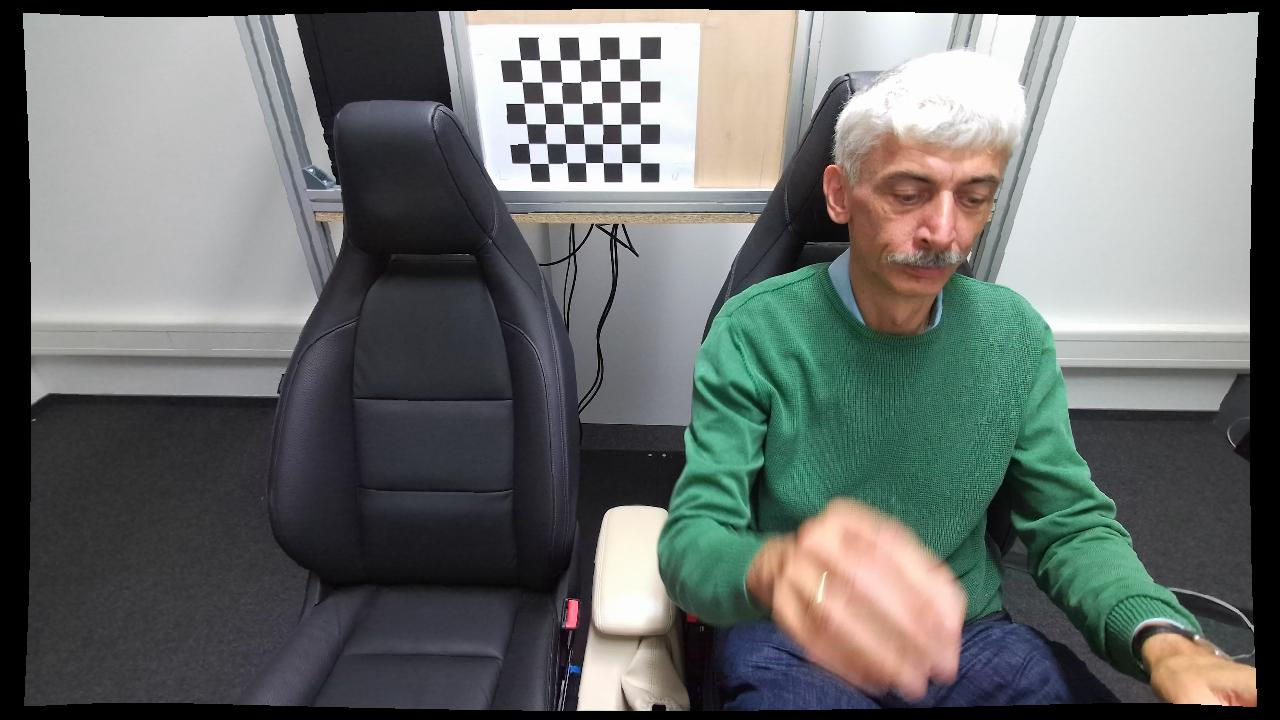Distracted: (656, 41, 1214, 714)
